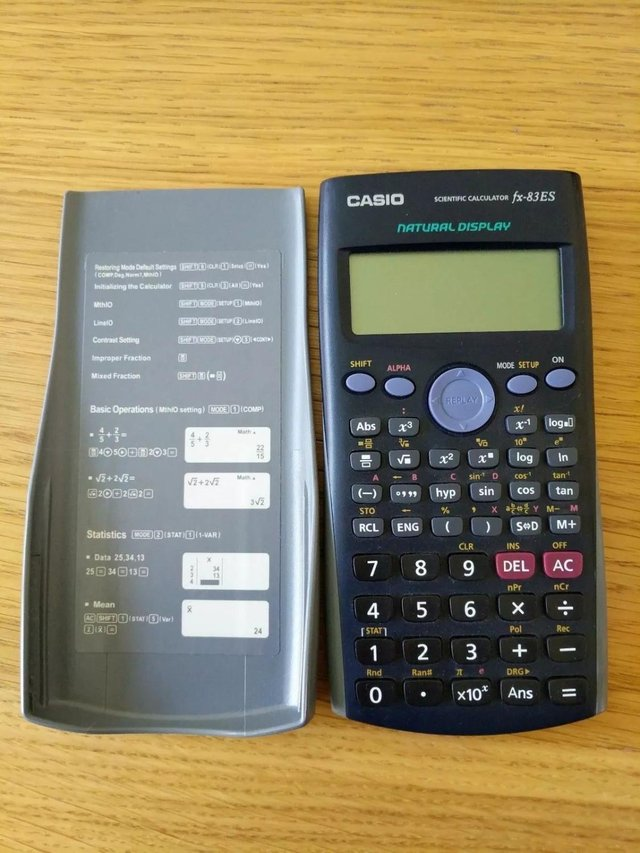Calculator: (311, 162, 620, 749)
